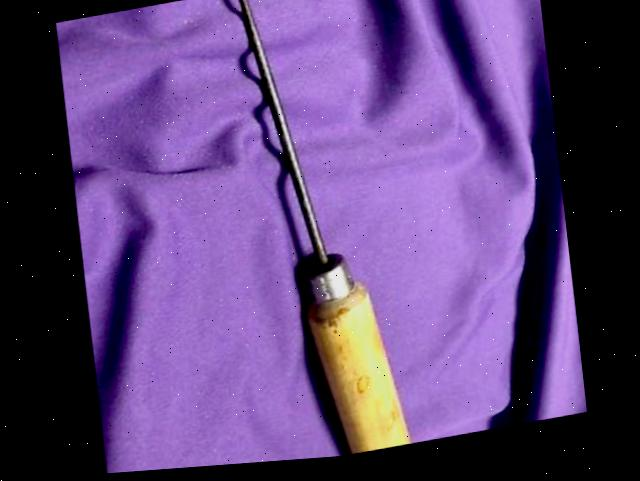ice pick: (221, 0, 418, 468)
